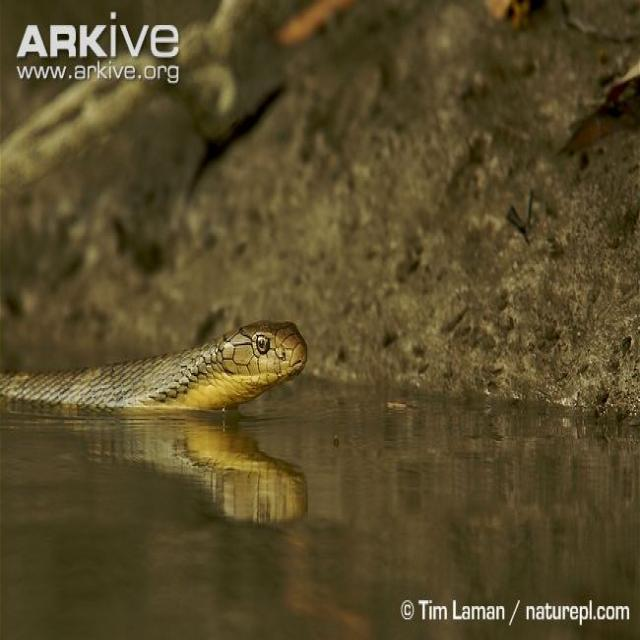Snake: (0, 317, 308, 413)
